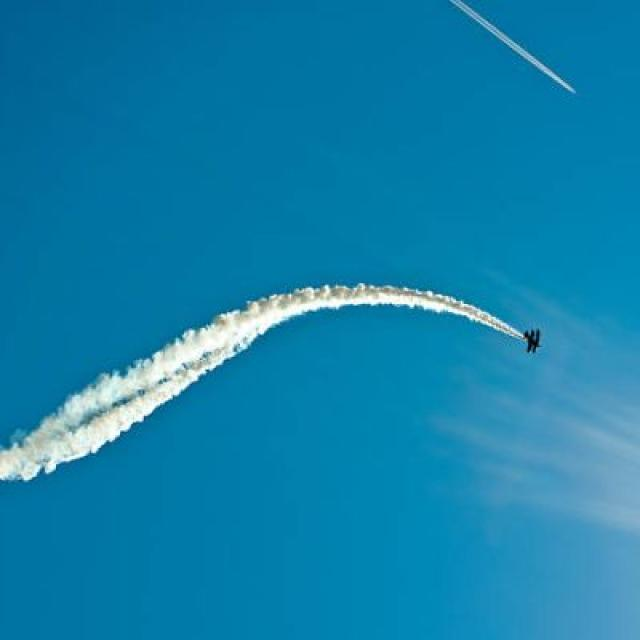Ct: (14, 277, 551, 489)
